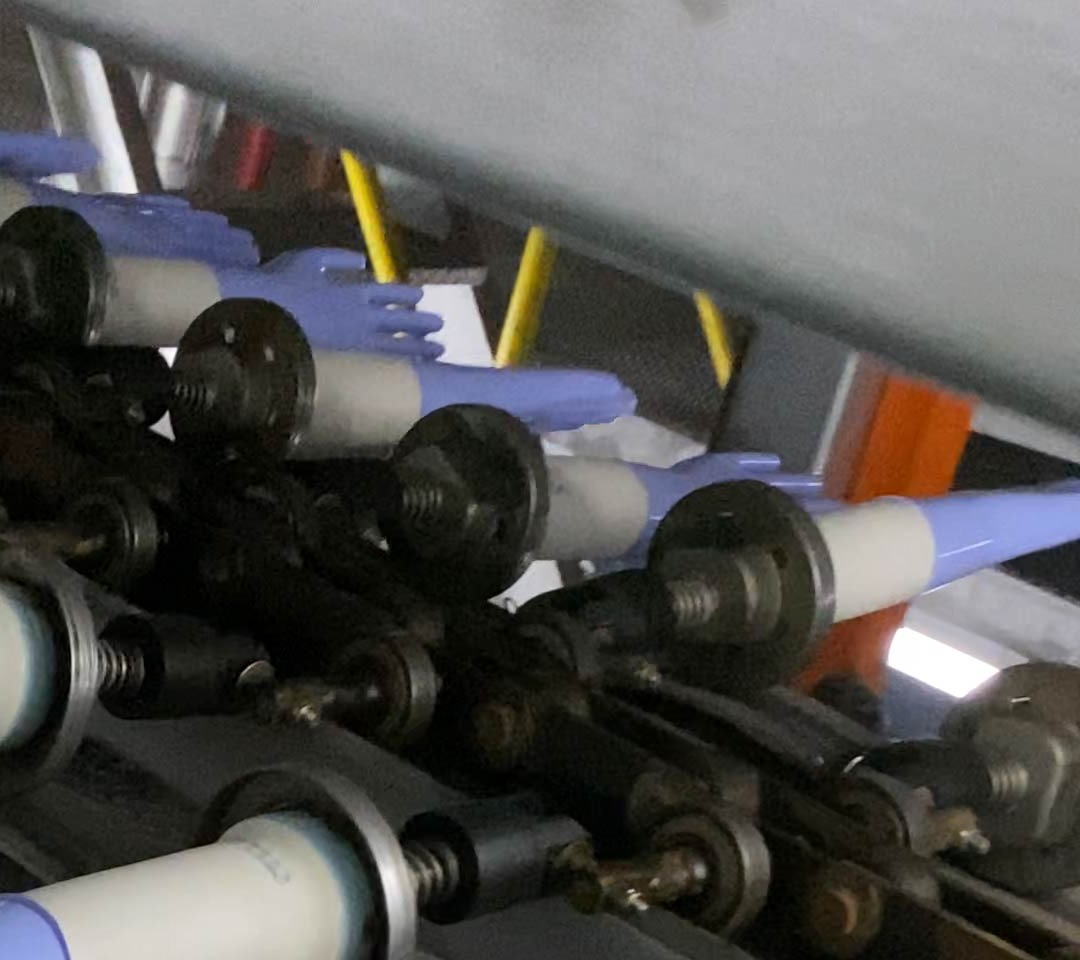glove: (216, 236, 446, 363)
